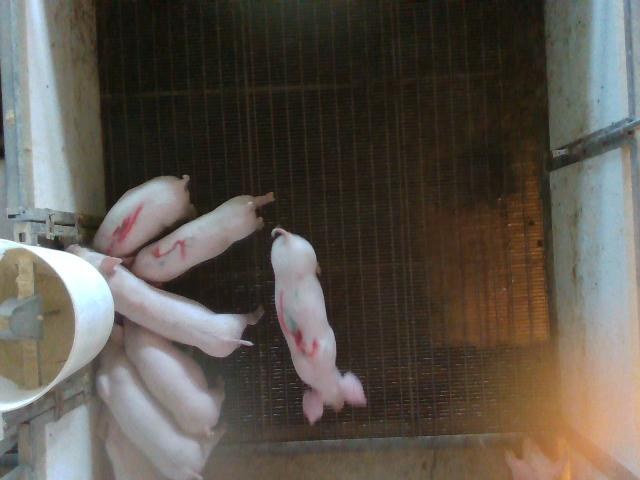pig-1: (94, 175, 192, 257)
pig-3: (271, 228, 366, 423)
pig-5: (131, 194, 274, 282)
